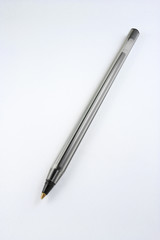pen: (31, 11, 145, 216)
